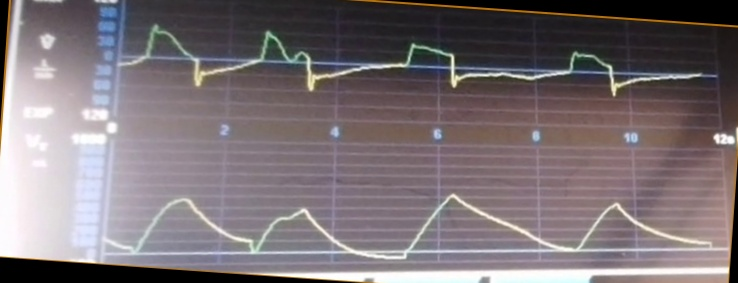Double_Triggering Flow: (127, 21, 653, 120)
Double_Triggering Volume: (113, 174, 659, 261)
